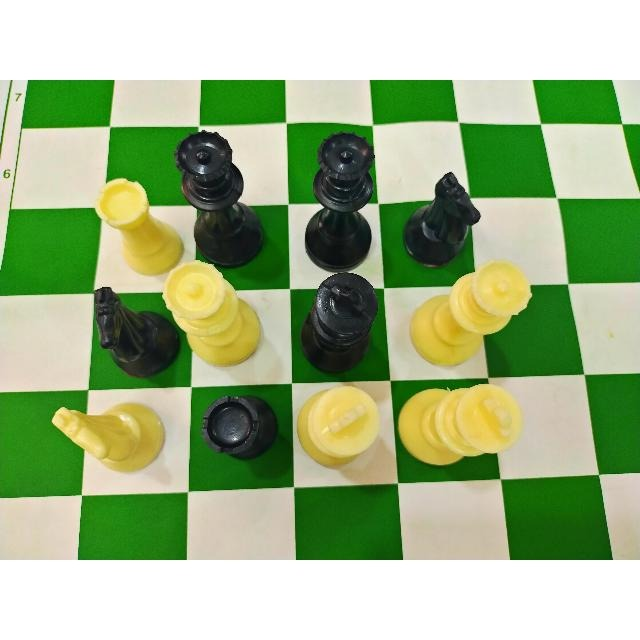black-king: (299, 273, 379, 375)
black-knight: (92, 286, 182, 380), (400, 170, 481, 270)
black-queen: (172, 129, 265, 271), (304, 129, 376, 273)
black-rook: (199, 391, 279, 463)
white-king: (396, 381, 526, 466), (296, 383, 382, 470)
white-knight: (48, 400, 168, 476)
white-queen: (405, 257, 535, 371), (160, 258, 264, 369)
white-rook: (93, 176, 184, 278)
